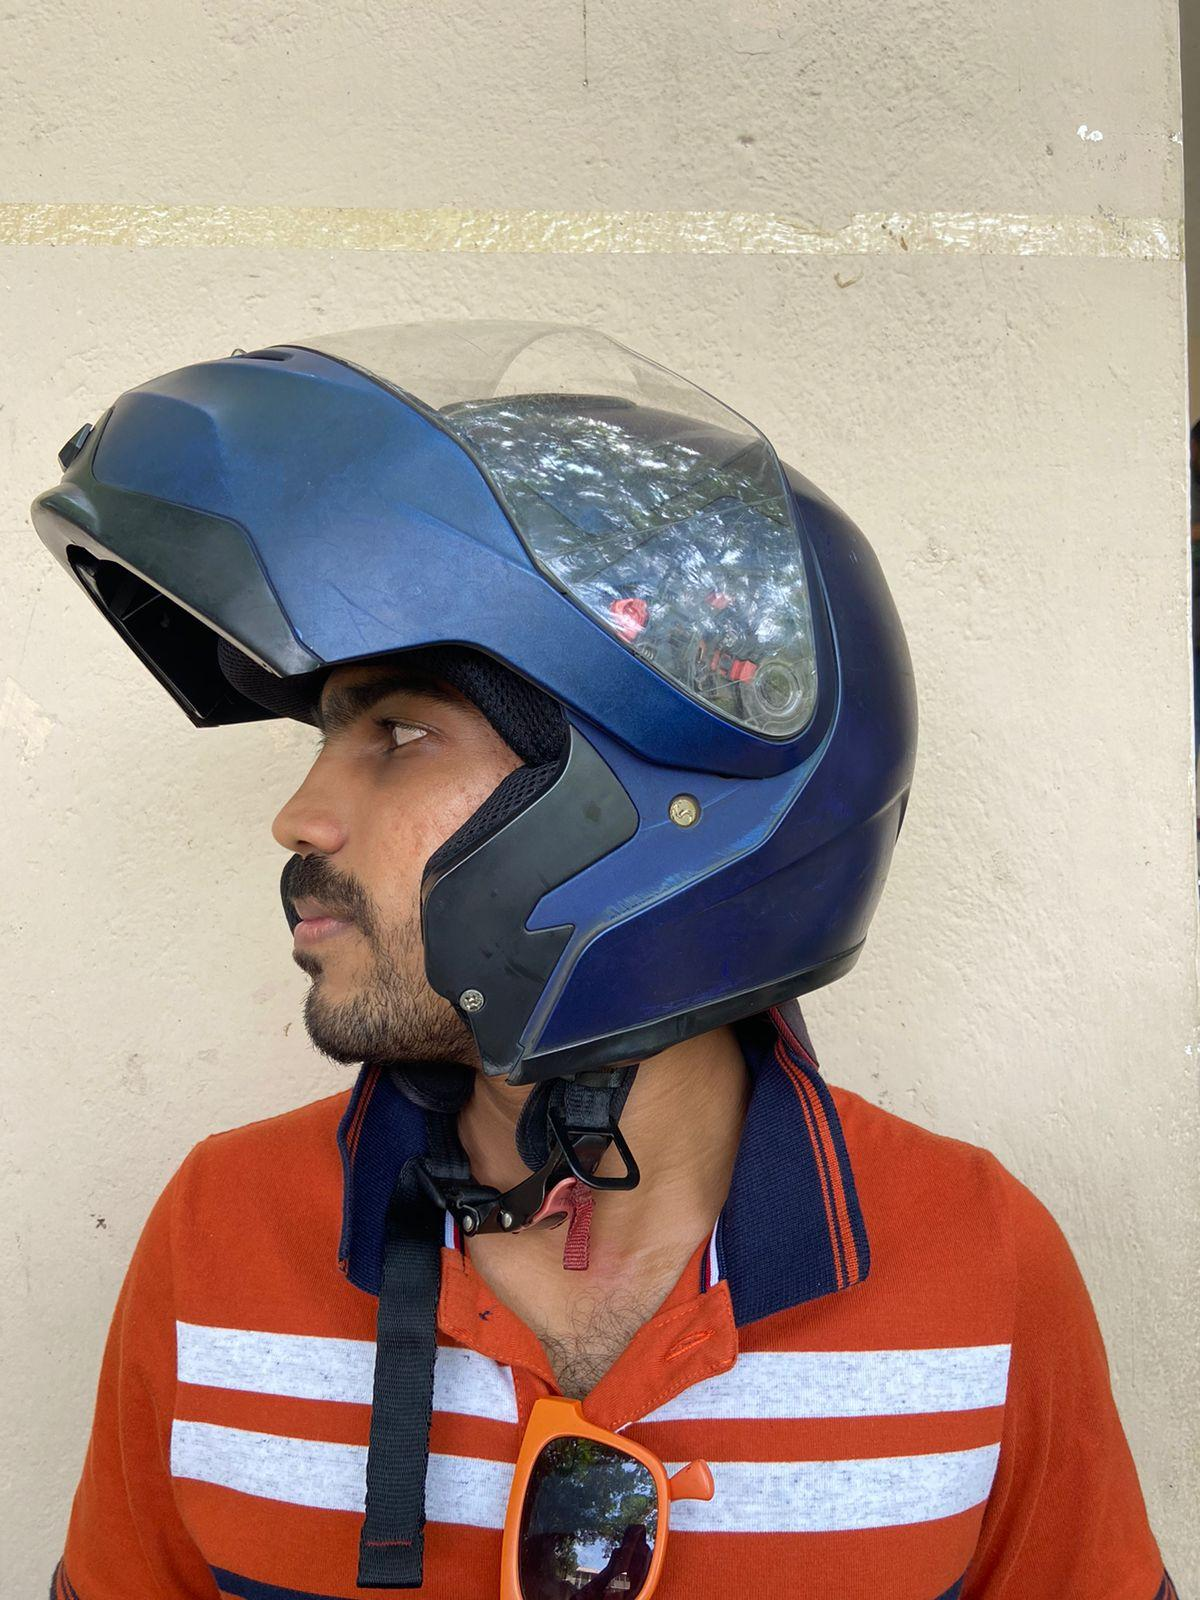helmet: (26, 316, 918, 1087)
